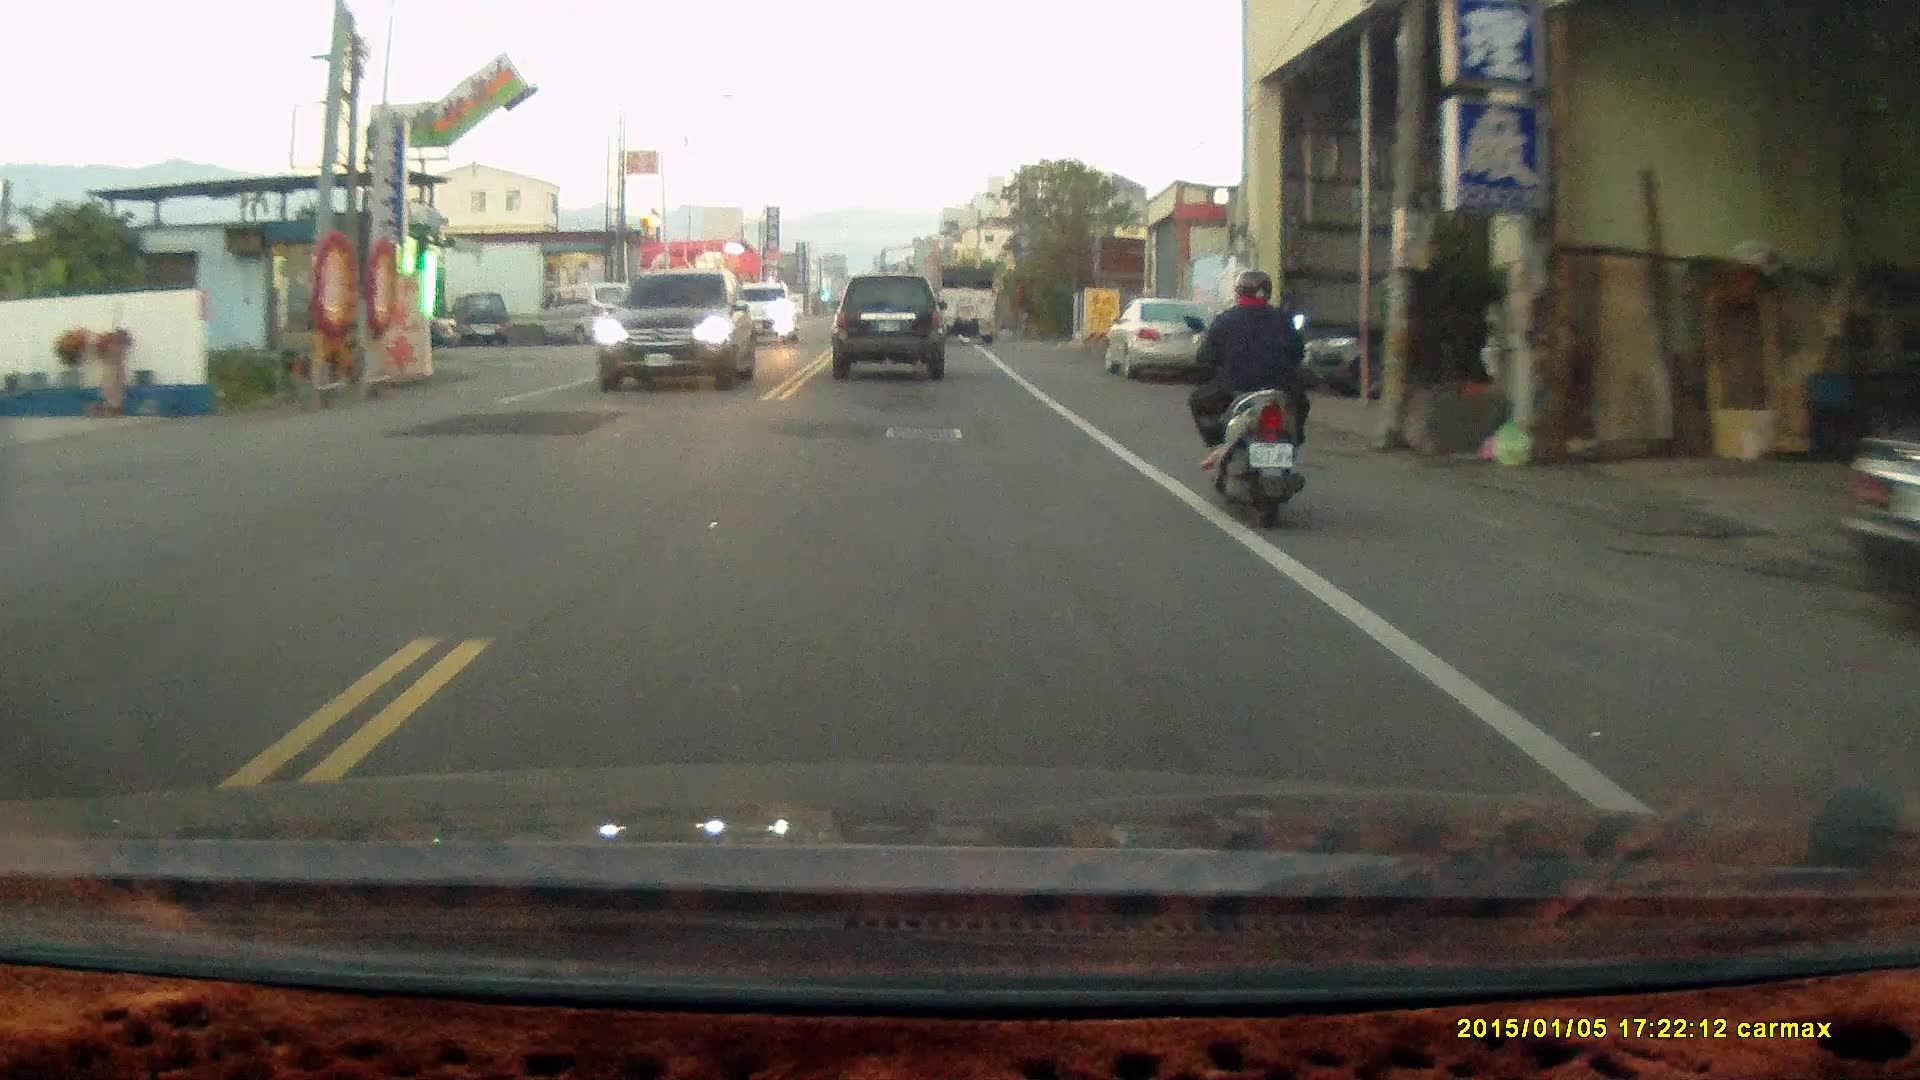rider: (1182, 267, 1313, 532)
vehicle: (592, 274, 762, 399), (831, 274, 948, 381), (1106, 296, 1216, 380), (544, 281, 636, 347), (928, 266, 999, 346)
